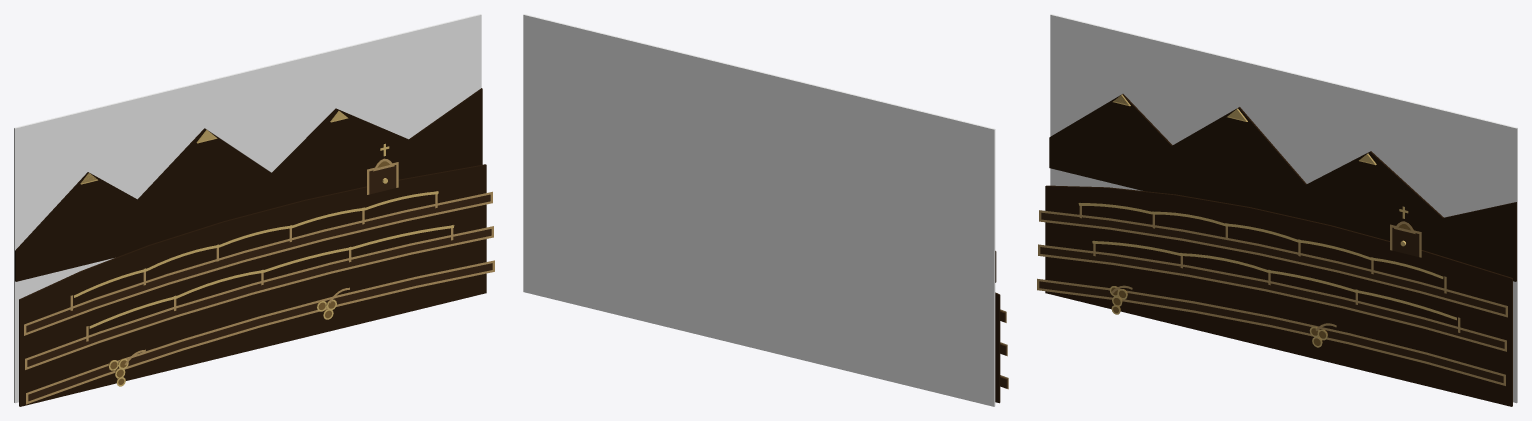
File: loc-sad-vinogradnik.glb
3 views of the same model, side by side, from view 1: azimuth 30°, elevation 25°; view 2: azimuth 150°, elevation 25°; view 3: azimuth 330°, elevation 25° (orthographic).
Parts seen in each view (by area): view 1: loc-sad-vinogradnik; view 2: loc-sad-vinogradnik; view 3: loc-sad-vinogradnik.
Part boxes in pixels (x1,y1,x2,y2): loc-sad-vinogradnik: [14, 14, 494, 406]; loc-sad-vinogradnik: [523, 14, 1008, 406]; loc-sad-vinogradnik: [1037, 14, 1517, 406].
Size of the model in its own units: 5.36 by 3 by 0.501.
